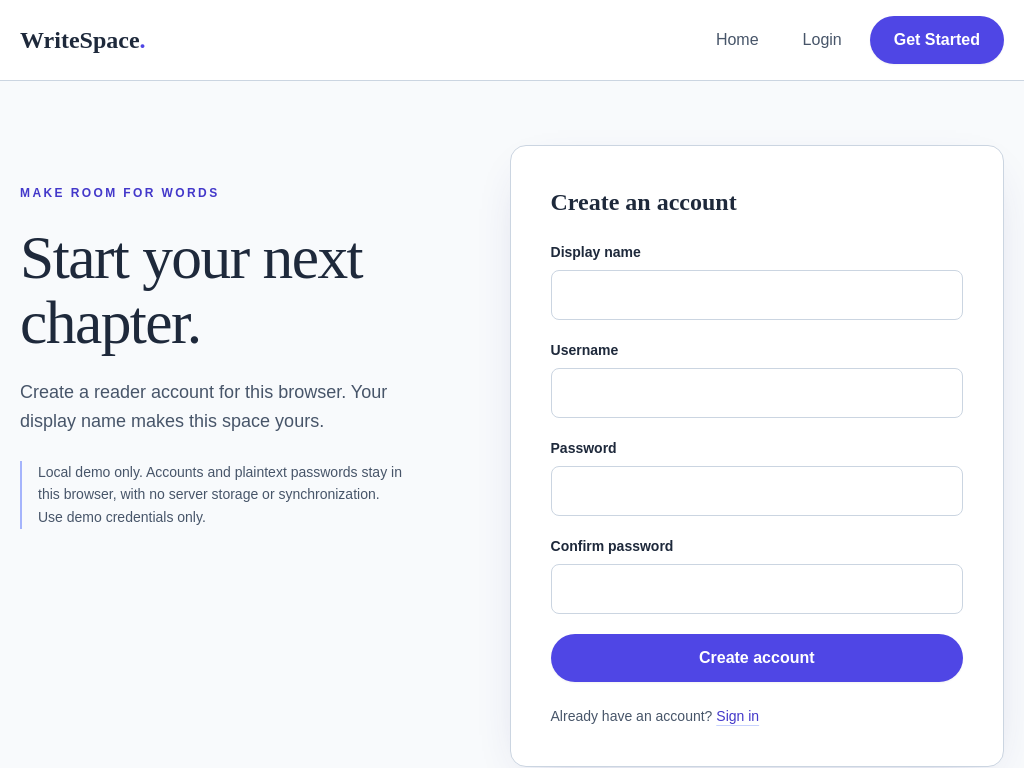
Test: registers through App and renders blogs with the persisted user identity
In the field labelled "Display name": (757, 295) [550,270,963,320], type "Avery"
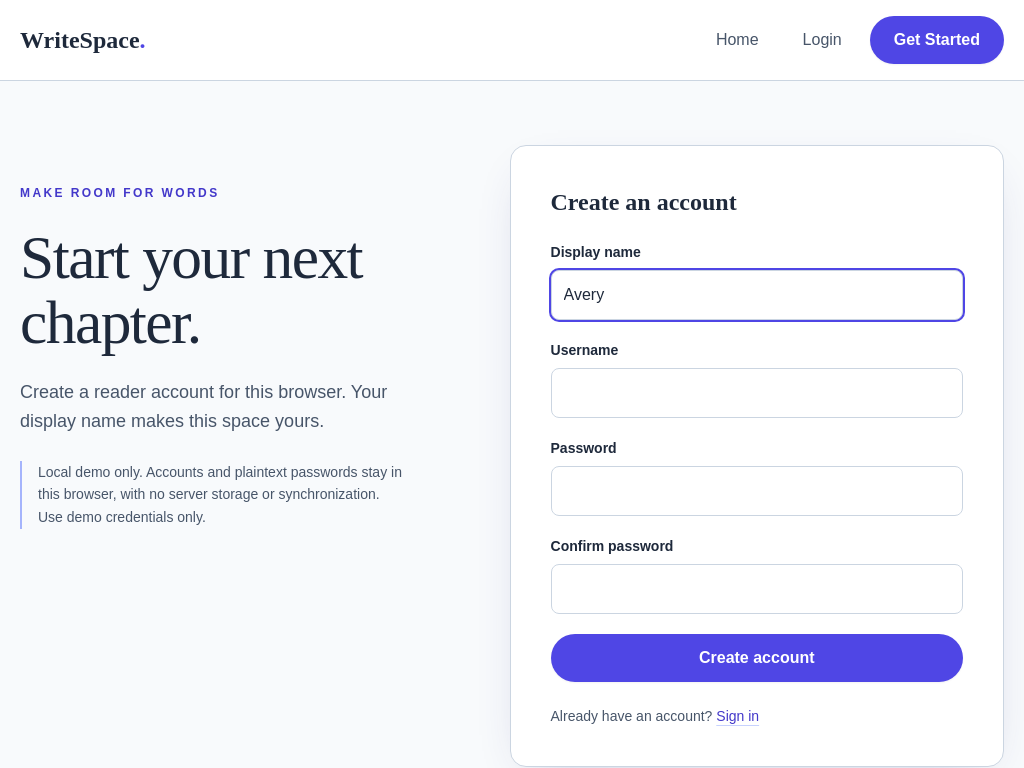
In the field labelled "Username": (757, 393) [550,368,963,418], type "avery"
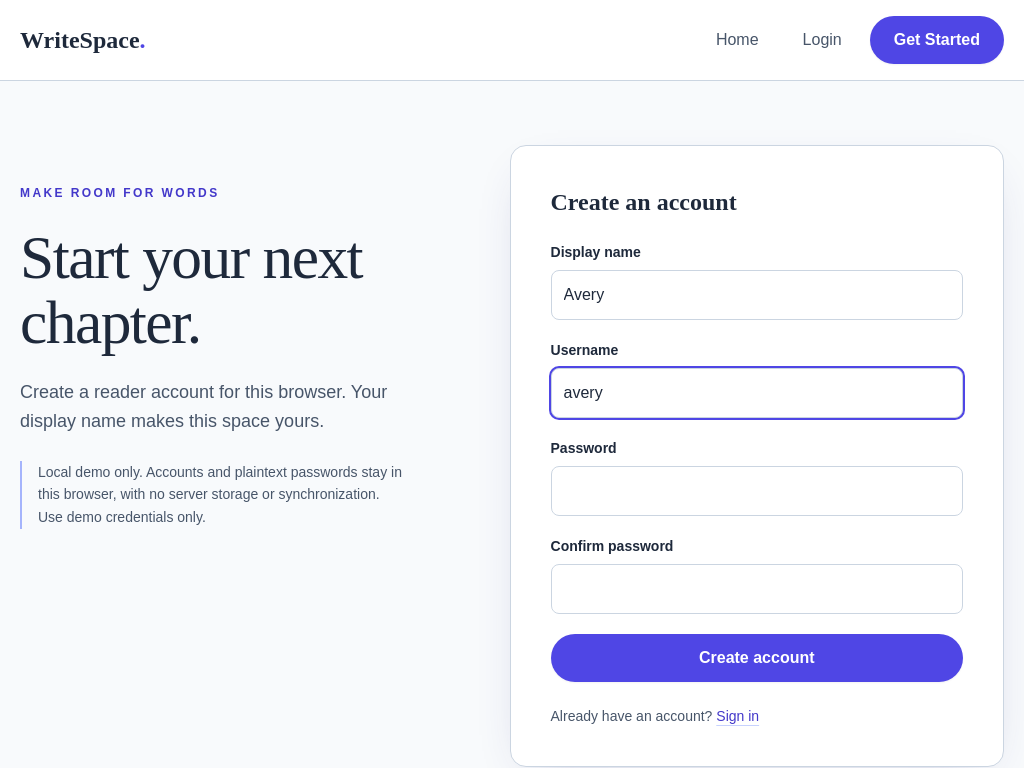
In the password field labelled "Password": (757, 491) [550,466,963,516], type "demo"
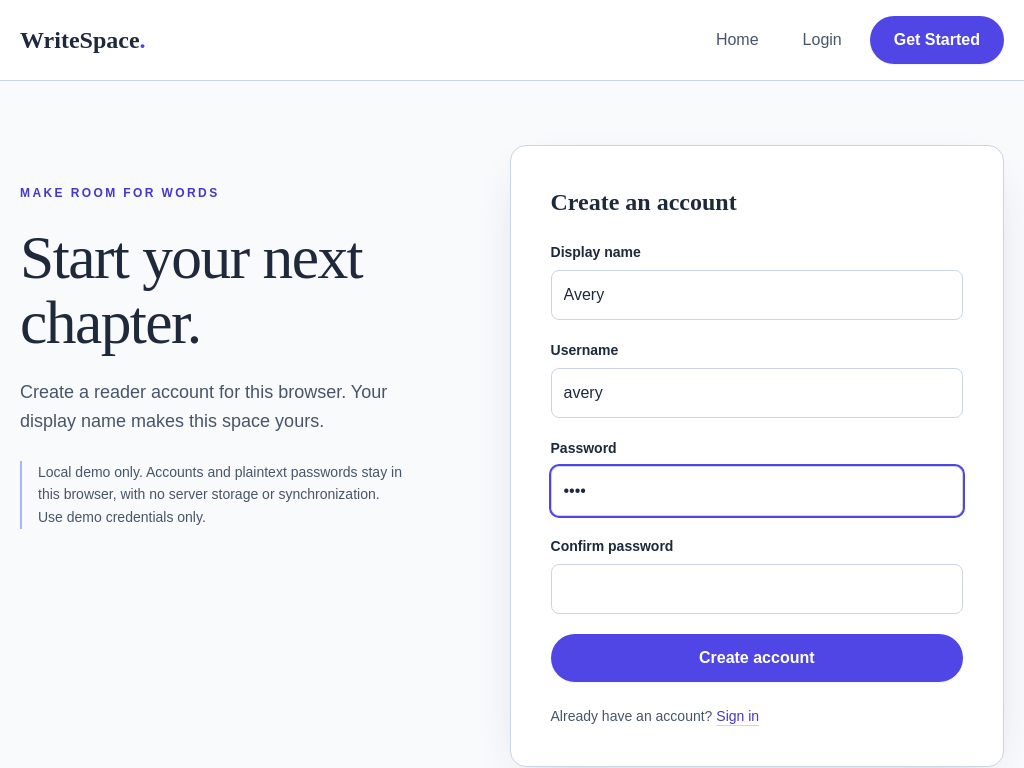
In the password field labelled "Confirm password": (757, 589) [550,564,963,614], type "demo"
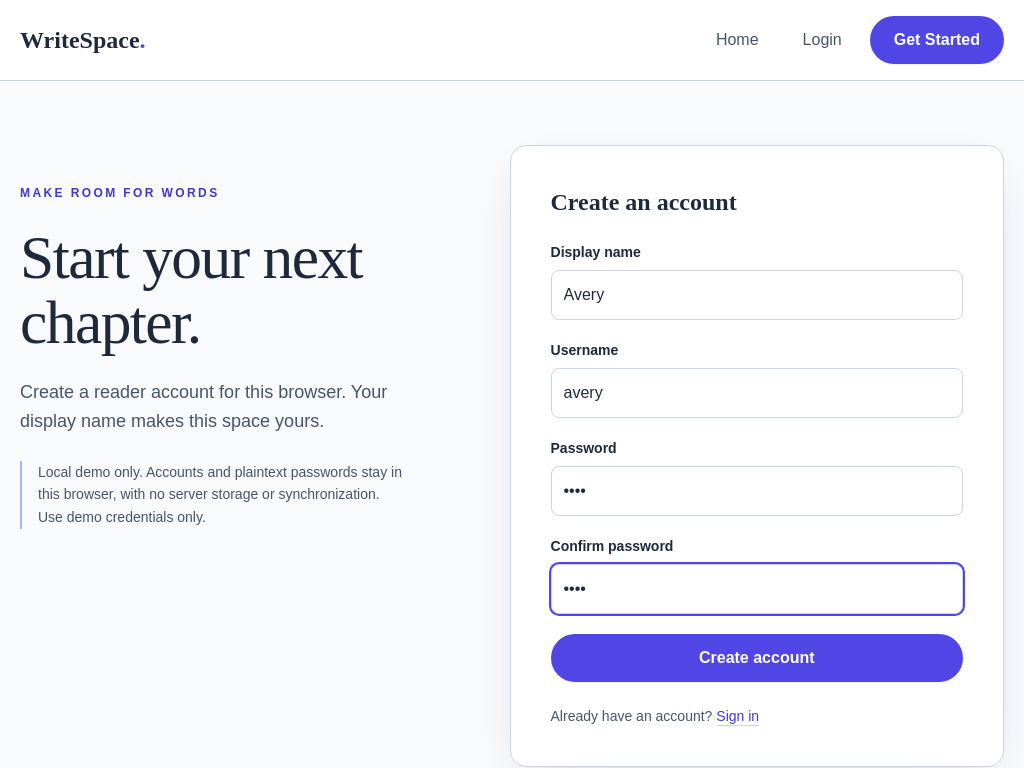
Click the button "Create account": (757, 658) [550,634,963,682]
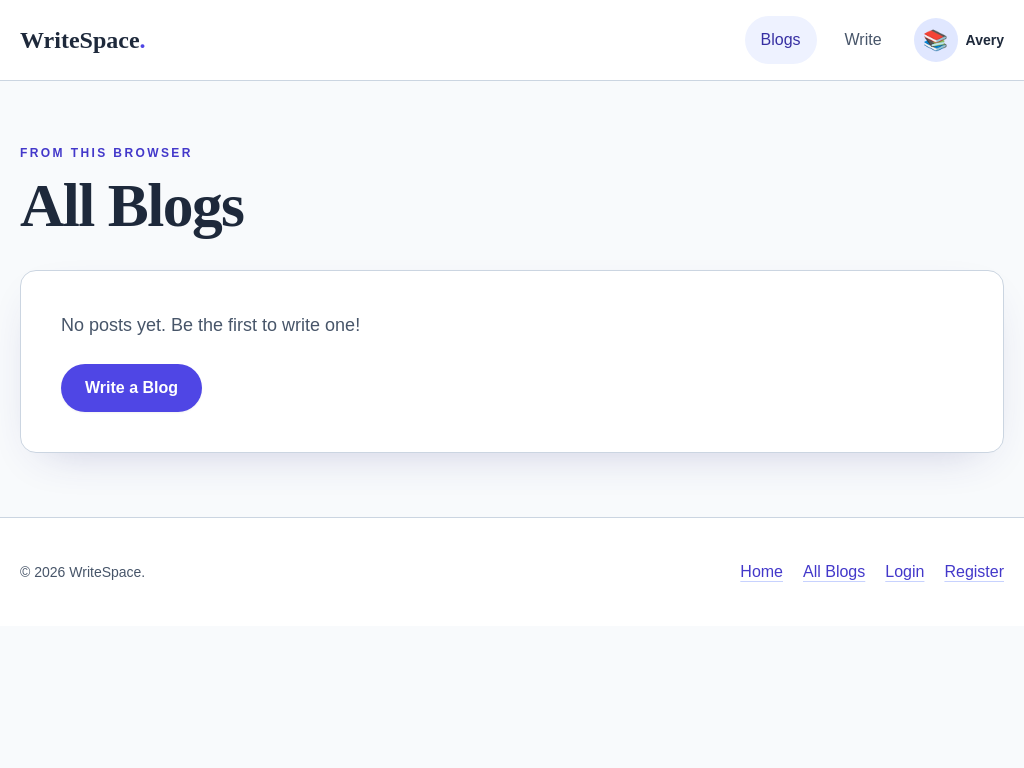
Expected: the heading "All Blogs" is shown, [20,171,243,239]
Expected: the button "📚 Avery" is shown, [914,18,1004,62]
Expected: the picture named "User avatar" is shown, [914,18,958,62]
